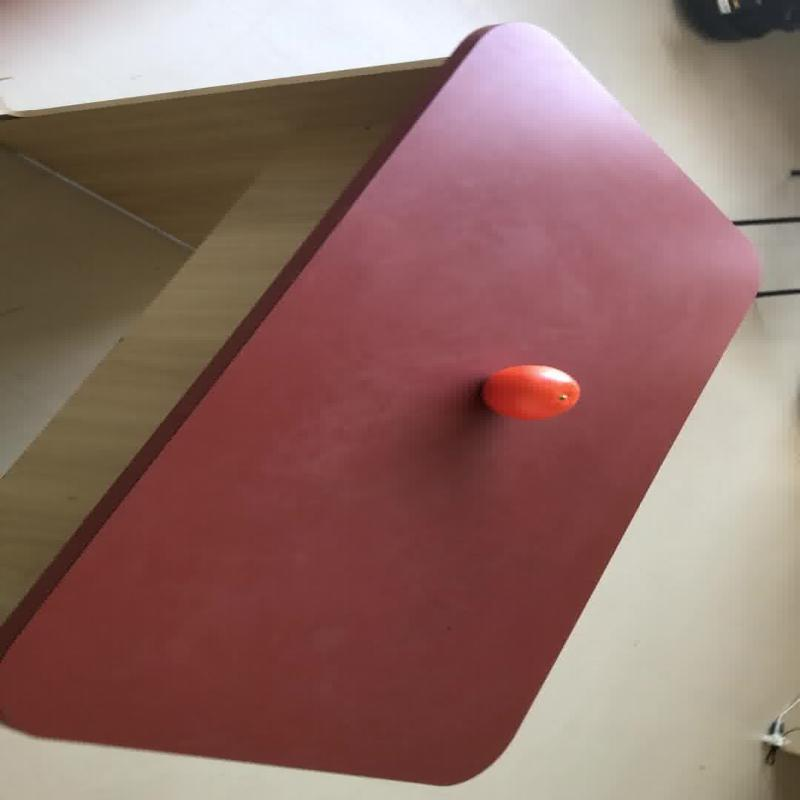orange: (478, 364, 580, 420)
